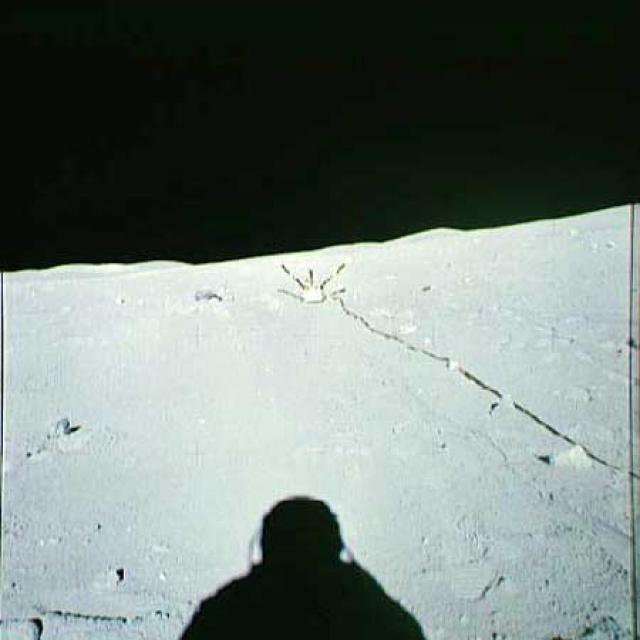rock: (185, 273, 241, 325), (40, 388, 80, 454), (90, 559, 136, 598), (0, 610, 44, 639)
